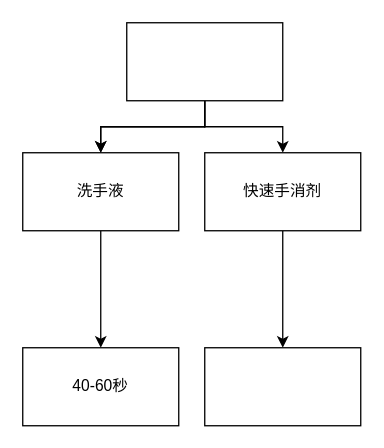
Some shapes in this 384 by 448 pixel diagram are drawn without their labels. The shapes that lost their labels are listed below. From the top down, each one's centre as x and y in pixels, then its label:
At point (204, 61): "洗手时间".
At point (282, 386): "20-30秒".
